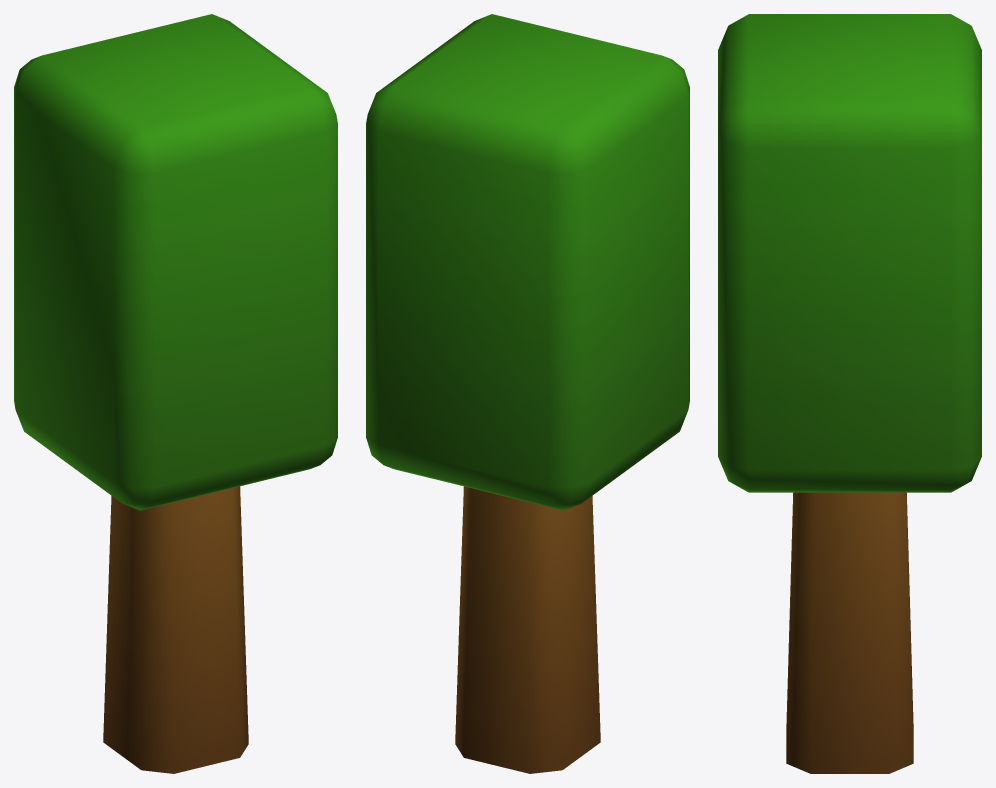
The model's file is Tree_C_3_.glb.
The picture shows the model from 3 angles, left to right: view 1: azimuth 30°, elevation 25°; view 2: azimuth 150°, elevation 25°; view 3: azimuth 270°, elevation 25°; orthographic projection. The views are drawn at different scales.
Parts seen in each view (by area): view 1: Tree_C_3; view 2: Tree_C_3; view 3: Tree_C_3.
Boxes of the visible parts, <box> form: Tree_C_3: <box>14,14,337,773</box>; Tree_C_3: <box>366,14,689,773</box>; Tree_C_3: <box>718,14,981,773</box>.
Bounding box in the file's own units: 1.21 × 3.48 × 1.21.
Materials: 1 (1 with a texture image).
